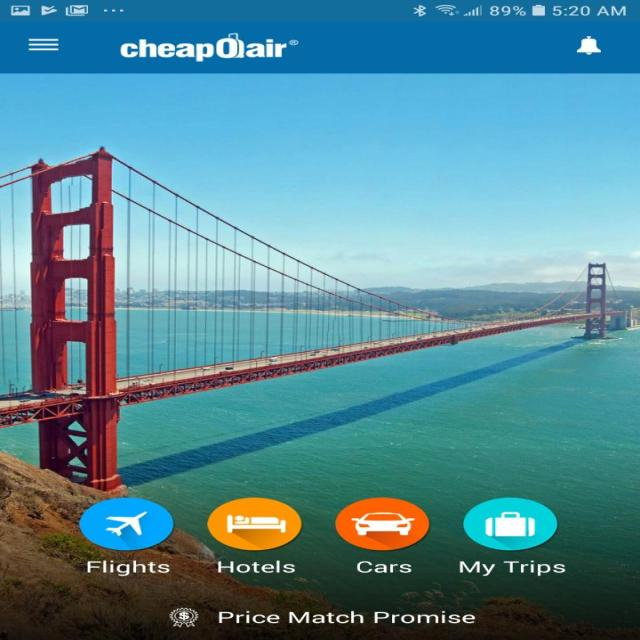BackgroundImage: (0, 73, 639, 640)
Icon: (462, 497, 558, 551), (575, 36, 601, 55), (26, 37, 59, 51)
Image: (119, 32, 300, 62), (78, 496, 174, 550), (206, 497, 302, 551), (334, 497, 430, 551), (169, 606, 199, 627)
Text: (217, 610, 475, 623), (458, 559, 566, 576), (86, 559, 170, 576), (217, 560, 295, 573), (356, 560, 412, 573)
